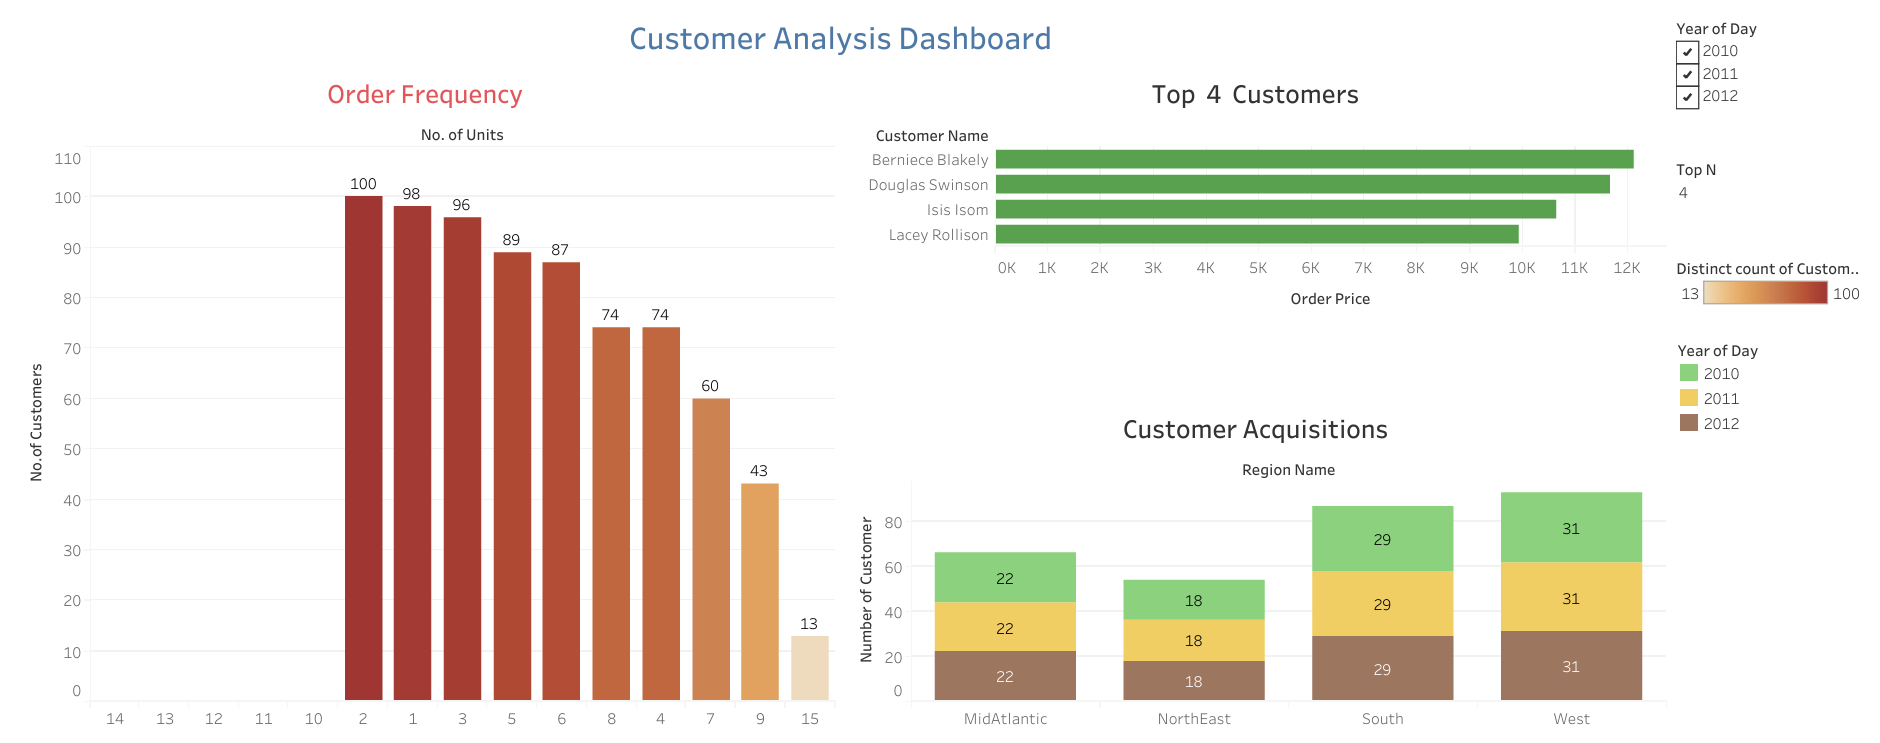

Layout of this report page (visuals, bound fields, positions):
{"tool":"tableau","page":{"name":"Customer Analysis ","canvas":[1000,1000],"units":"permille","ordinal":0},"visuals":[{"type":"title","box":[4.8,9.4,893.8,57.6]},{"type":"filter","title":"Top Customers","param":"[federated.0u0hkam144xvbj1h3fojy04cpbn4].[yr:Day:ok]","box":[898.6,9.4,96.6,150.4]},{"type":"worksheet","title":"Order Frequency","mark":"Automatic","rows":["Customer_ID"],"cols":["Unit (bin)"],"box":[4.8,67,446.9,923.6]},{"type":"worksheet","title":"Top Customers","mark":"Automatic","rows":["Customer_Name"],"cols":["Order_Price"],"box":[451.7,67,446.9,461.8]},{"type":"parameter","param":"[Parameters].[Parameter 1]","box":[898.6,159.8,96.6,92.8]},{"type":"legend","title":"Order Frequency","param":"[federated.0u0hkam144xvbj1h3fojy04cpbn4].[ctd:Customer_ID:qk]","box":[898.6,252.6,96.6,85.8]},{"type":"legend","title":"Customer Acquisition","param":"[federated.0u0hkam144xvbj1h3fojy04cpbn4].[yr:Day:ok]","box":[898.6,338.4,96.6,109.3]},{"type":"worksheet","title":"Customer Acquisition","mark":"Automatic","rows":["Customer_ID"],"cols":["Region_Name"],"box":[451.7,528.8,446.9,461.8]}]}

Visuals, with their boxes on the dashboard's canvas, which has no fixed pixel size, in thousandths of its width and height (x1, y1, x2, y2). These are canvas units, not pixel positions in the 1880x743 screenshot, which may show the page scaled, cropped or inside an application window:
title: <region>5, 9, 899, 67</region>
"Top Customers" filter: <region>899, 9, 995, 160</region>
"Order Frequency" worksheet: <region>5, 67, 452, 991</region>
"Top Customers" worksheet: <region>452, 67, 899, 529</region>
parameter: <region>899, 160, 995, 253</region>
"Order Frequency" legend: <region>899, 253, 995, 338</region>
"Customer Acquisition" legend: <region>899, 338, 995, 448</region>
"Customer Acquisition" worksheet: <region>452, 529, 899, 991</region>
